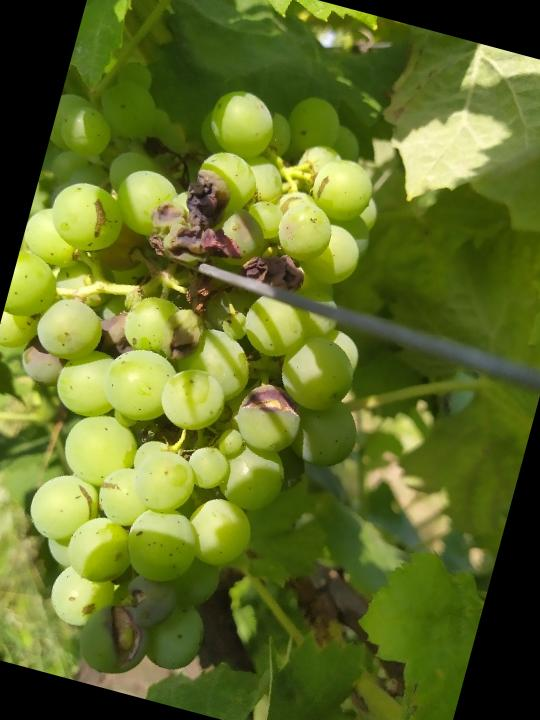grape: (0, 35, 443, 720)
